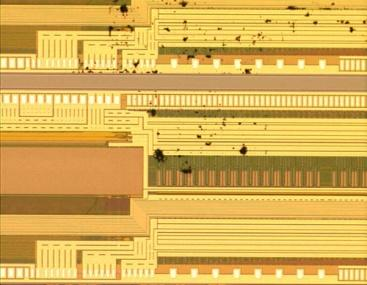PO CONTAMINATION: (70, 1, 367, 177)
